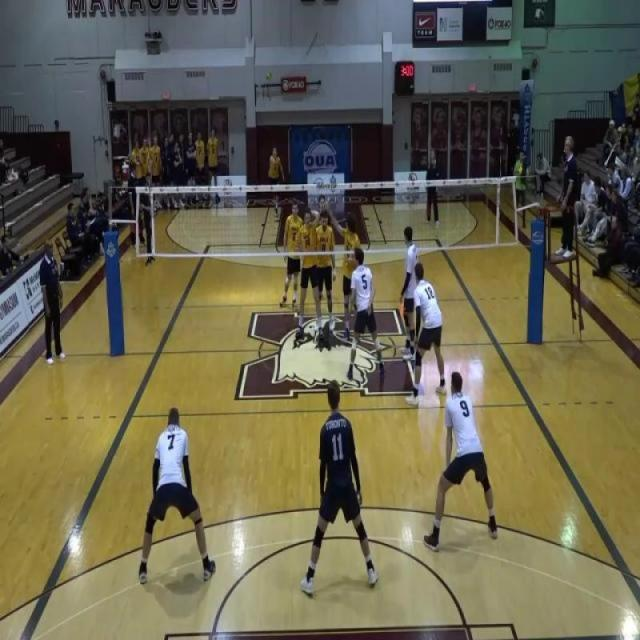volleyball: (266, 69, 272, 81), (518, 165, 522, 176)
